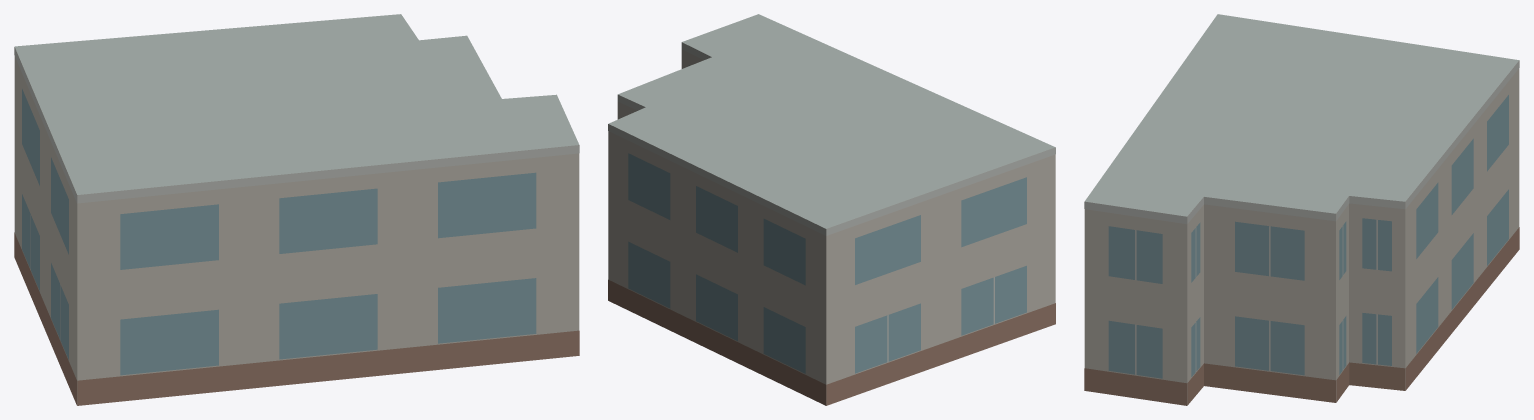
Rendered from survey-upis-32999207.glb.
The picture shows the model from 3 angles, left to right: view 1: azimuth 30°, elevation 25°; view 2: azimuth 150°, elevation 25°; view 3: azimuth 270°, elevation 25°; orthographic projection. The views are drawn at different scales.
Parts seen in each view (by area): view 1: survey-upis-32999207.tmp; view 2: survey-upis-32999207.tmp; view 3: survey-upis-32999207.tmp.
Boxes of the visible parts, x1,y1,x2,y2 form: survey-upis-32999207.tmp: (14, 14, 579, 405); survey-upis-32999207.tmp: (608, 14, 1055, 405); survey-upis-32999207.tmp: (1084, 14, 1519, 405).
Bounding box in the file's own units: 14.02 × 6.1 × 12.72.
